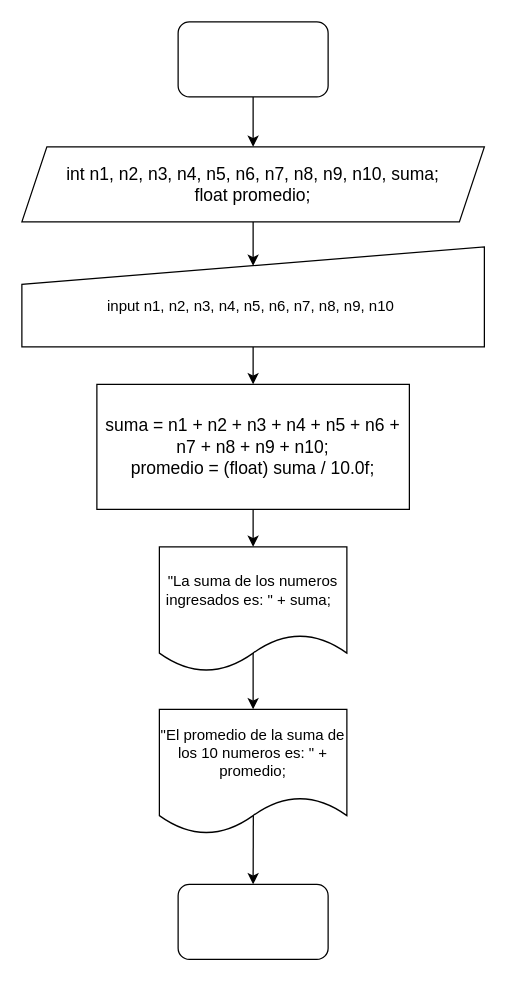
The diagram is 506 pixels wide and 981 high, and some of its shapes have lost their labels. Here are the shapes that lost their labels. From the top down, the box of each, then its label:
(177, 21, 328, 97): Start
(177, 883, 328, 959): End
